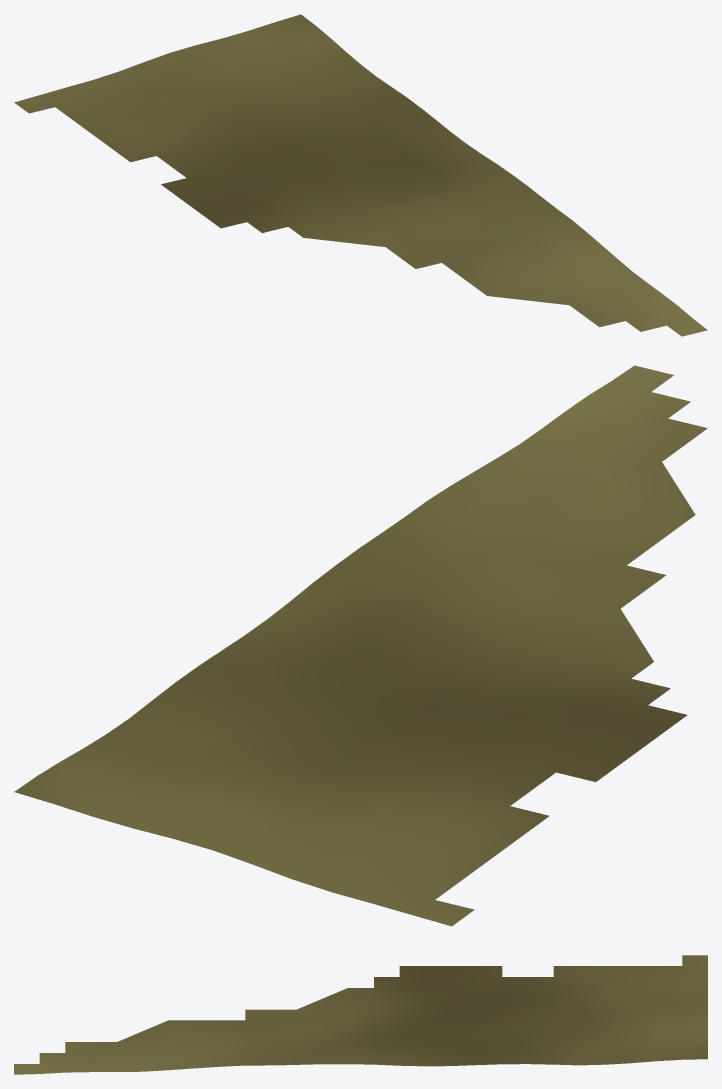
The model's file is terrain_lod0_-7_1.obj.
3 views of the same model, one above another, from view 1: azimuth 30°, elevation 25°; view 2: azimuth 150°, elevation 25°; view 3: azimuth 270°, elevation 25° (orthographic). The views are drawn at different scales.
Visible parts, largest first — view 1: terrain_lod0_-7_1; view 2: terrain_lod0_-7_1; view 3: terrain_lod0_-7_1.
Boxes of the visible parts, x1,y1,x2,y2 form: terrain_lod0_-7_1: [14, 14, 707, 336]; terrain_lod0_-7_1: [14, 365, 707, 926]; terrain_lod0_-7_1: [14, 955, 707, 1074].
Size of the model in its own units: 44 by 2.66 by 108.
